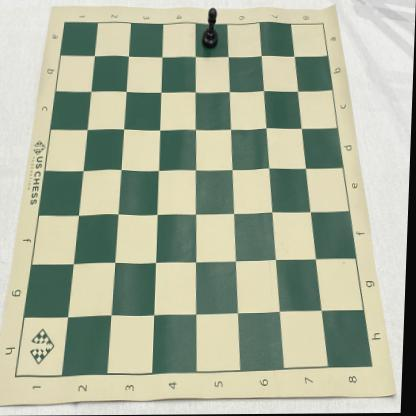black-pawn: (202, 8, 220, 51)
